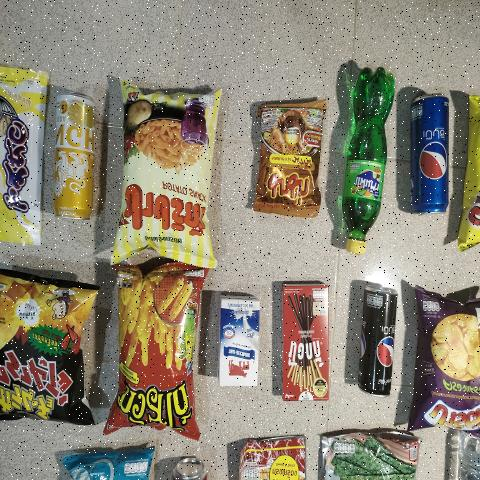fanta_green: (334, 67, 400, 256)
karamujo: (0, 283, 97, 419)
mama: (251, 101, 323, 214)
paprika: (122, 85, 212, 250)
party_purple: (414, 305, 480, 429)
pepsi_black: (356, 285, 401, 400)
pepsi_blue: (406, 86, 452, 218)
pokki: (283, 285, 333, 403)
singha_yellow: (54, 94, 98, 224)
thai_denmark: (218, 292, 262, 388)
twisco: (113, 270, 196, 431)
